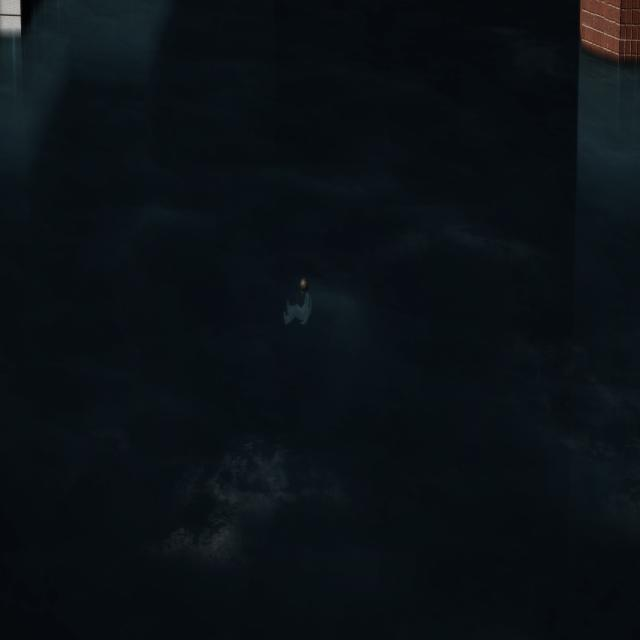Human: (279, 274, 321, 335)
